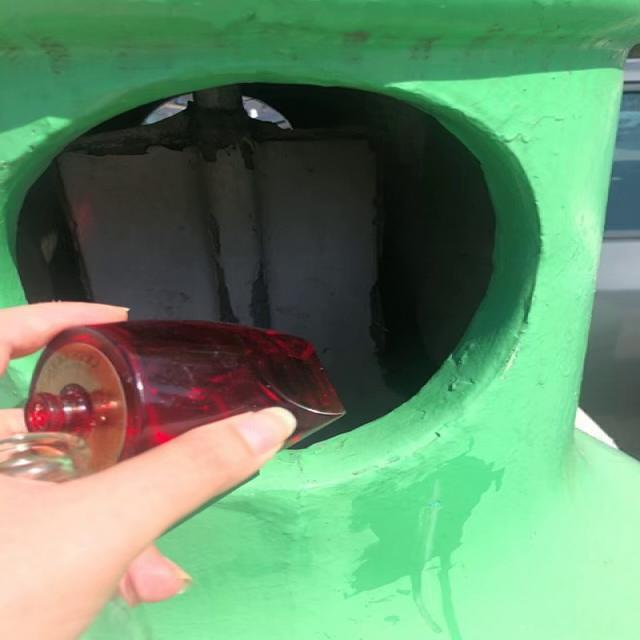Glass: (24, 321, 345, 472)
